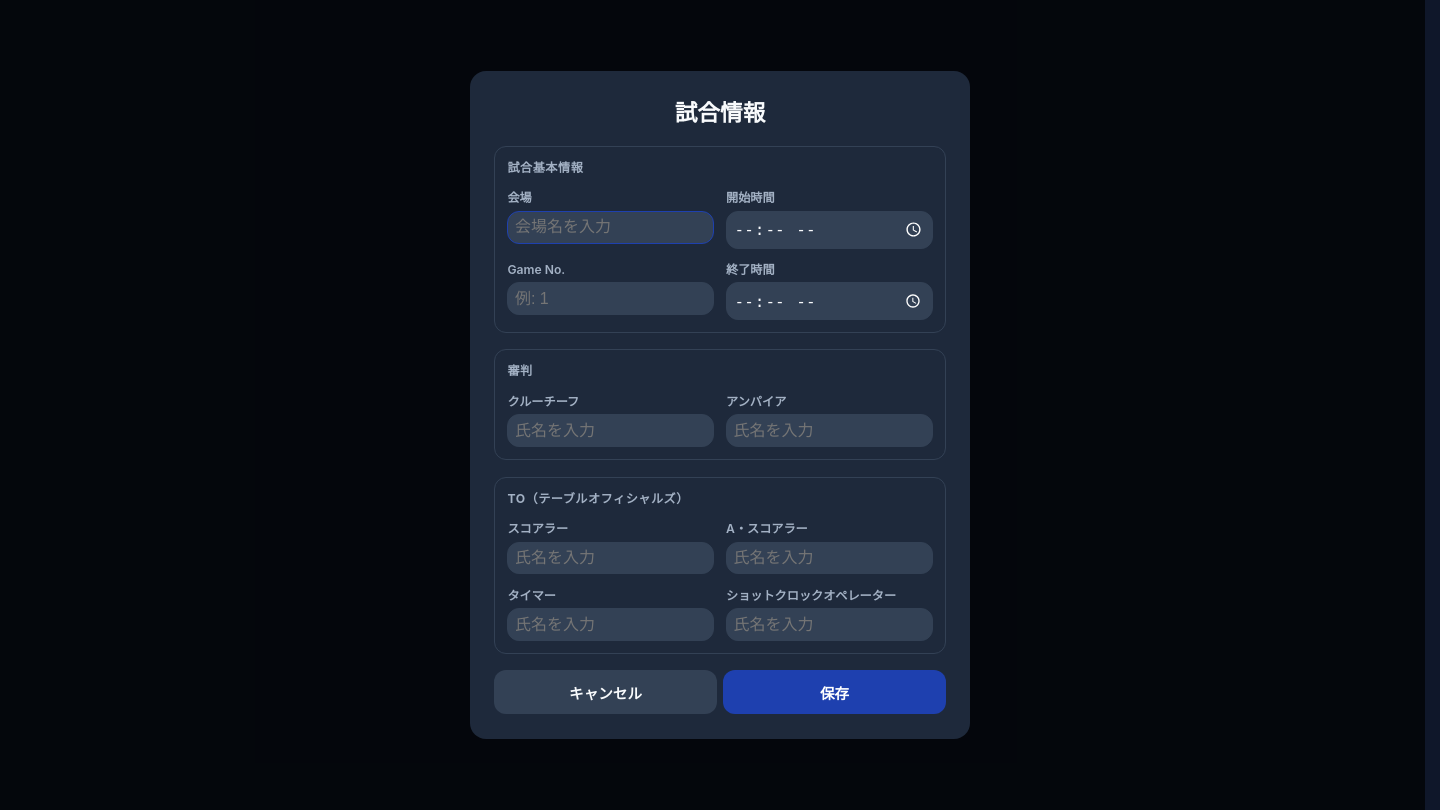
Test: GameInfoModal: 書きかけの破棄 › 書きかけがあるときは、オーバーレイのタップで確認を出す（まだ閉じない）
This screenshot has width=1440, height=810.
Type "港南体育館" into the field labelled "会場" at (611, 227), box [507, 211, 714, 244]
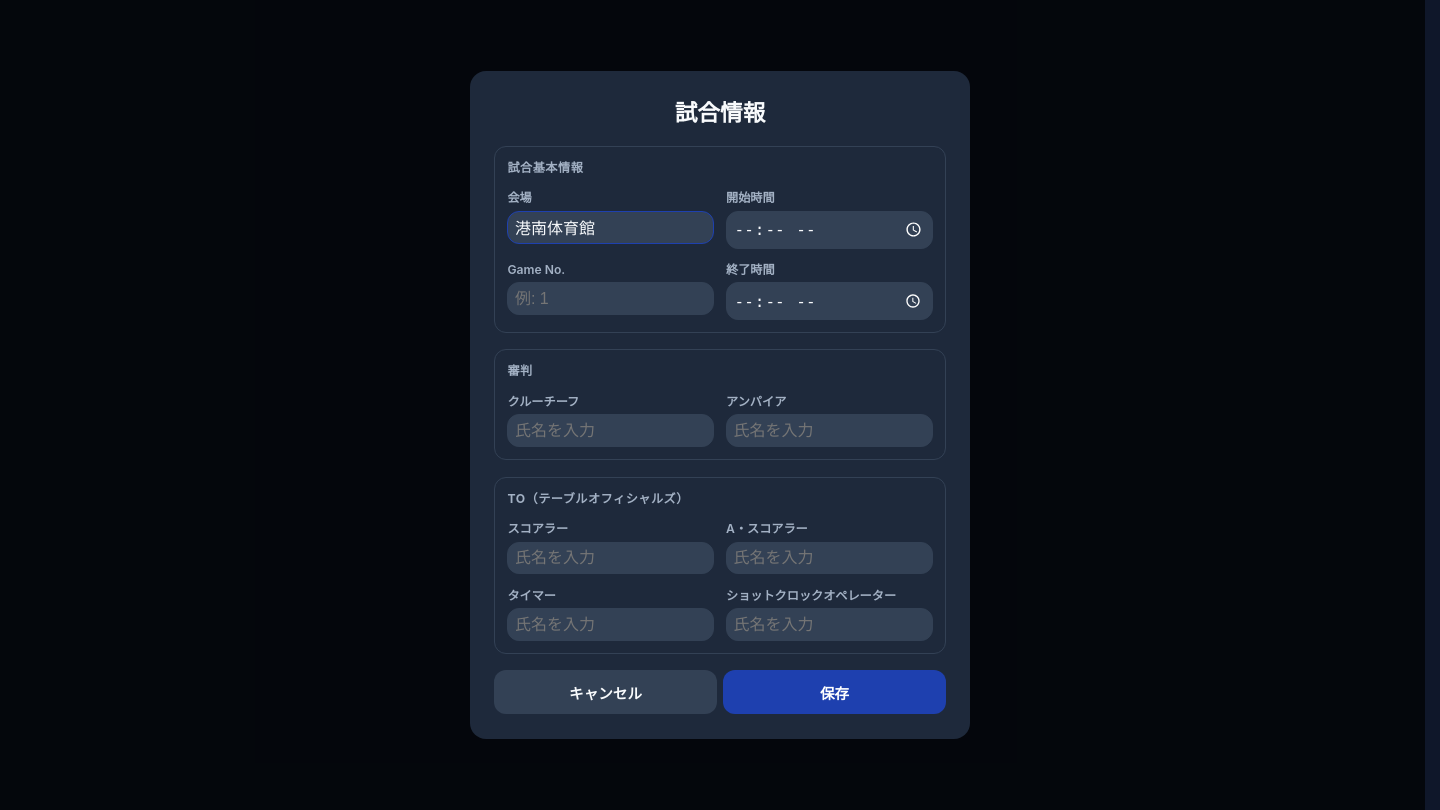
Click the element with class "game-info-modal-overlay" at (86, 405), box [0, 0, 1439, 809]
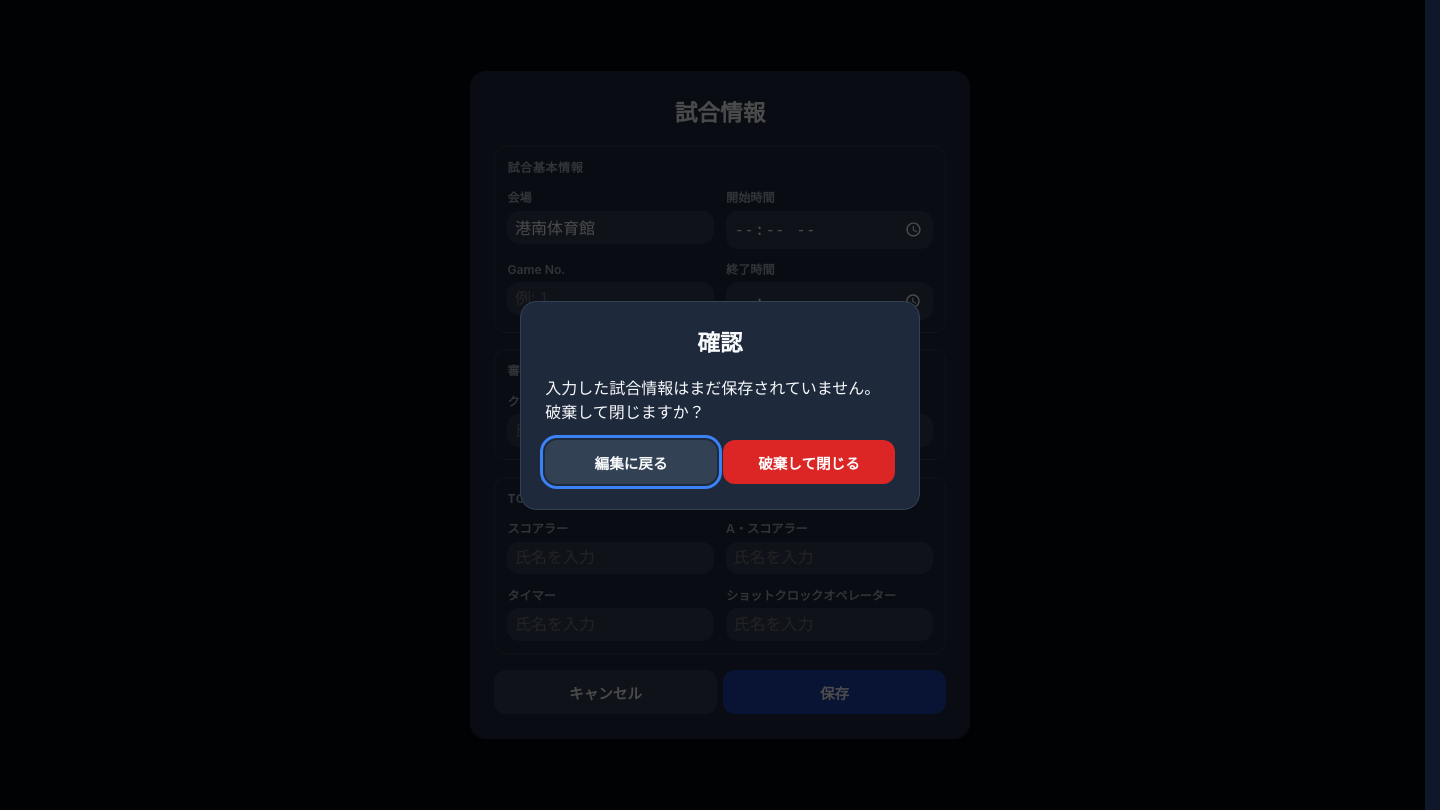
Check: the button "破棄して閉じる" is shown, box [723, 440, 895, 484]
